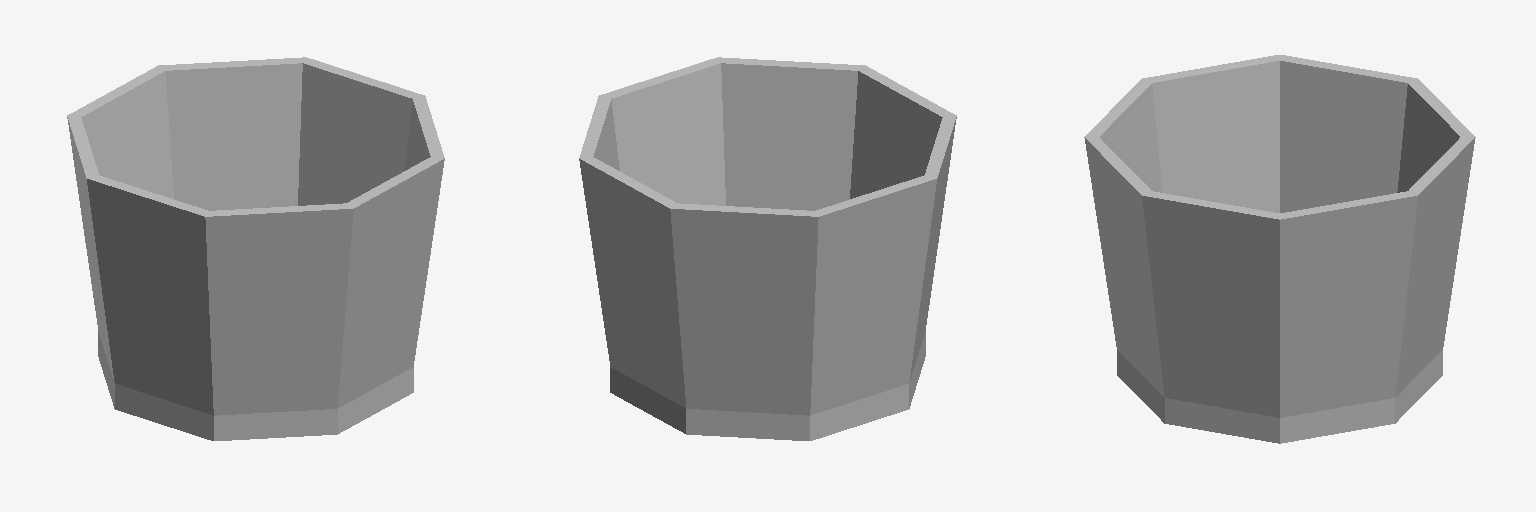
File: ShotGlass.obj
3 renders of one model, left to right at view 1: azimuth 30°, elevation 25°; view 2: azimuth 150°, elevation 25°; view 3: azimuth 270°, elevation 25°, orthographic.
Visible parts, largest first — view 1: pCylinder1; view 2: pCylinder1; view 3: pCylinder1.
Boxes of the visible parts, x1=… form: pCylinder1: x1=67, y1=57, x2=444, y2=440; pCylinder1: x1=579, y1=57, x2=956, y2=440; pCylinder1: x1=1084, y1=55, x2=1475, y2=443.
Size of the model in its own units: 1.65 by 1.11 by 1.65.